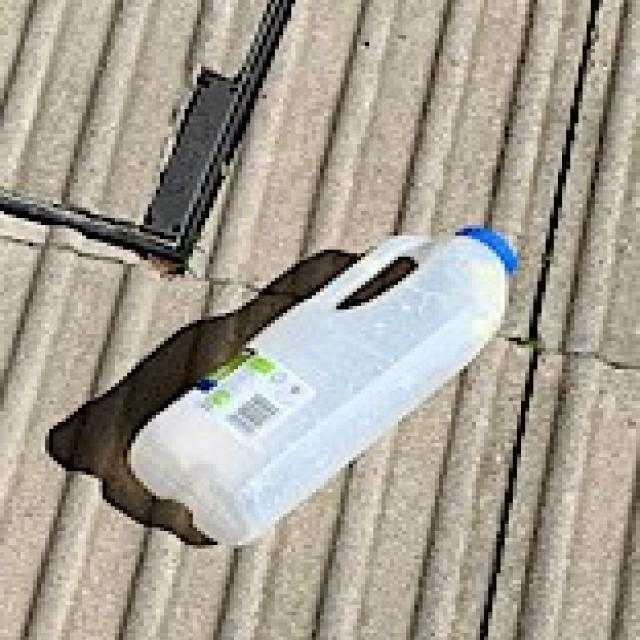HDPE Plastic: (122, 224, 518, 548)
